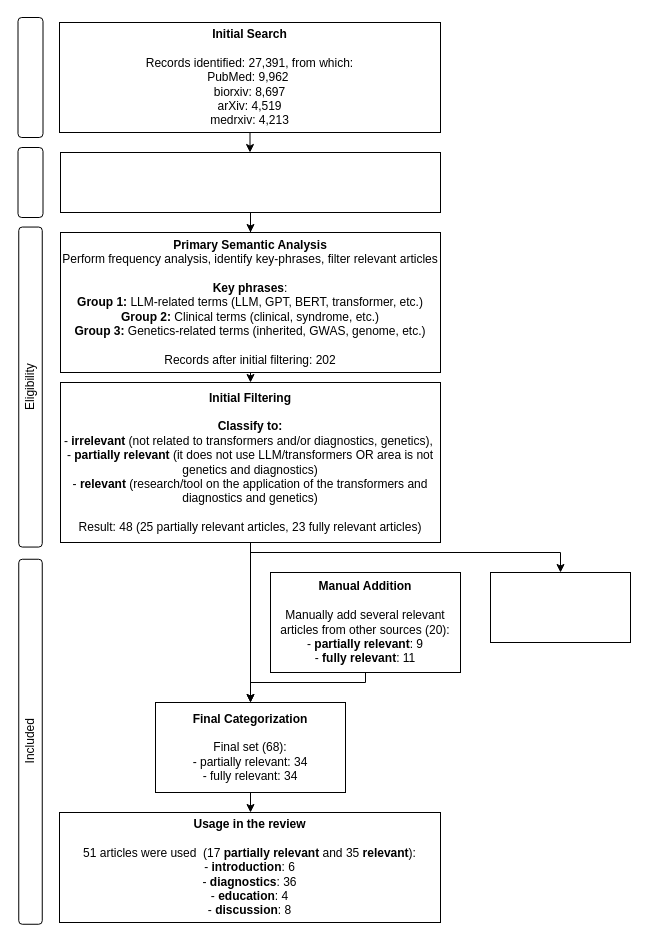
Image size: 648x942. Some labels were removed from this diagram. Here are the shapes that lost their labels. From the top down, the box of each, then its label:
(17, 16, 43, 138): Identification
(17, 146, 43, 218): Screening
(60, 152, 440, 212): Duplicates removal Records after duplicates removed: 24,190
(490, 572, 630, 642): Excluded Irrelevant articles: 154
